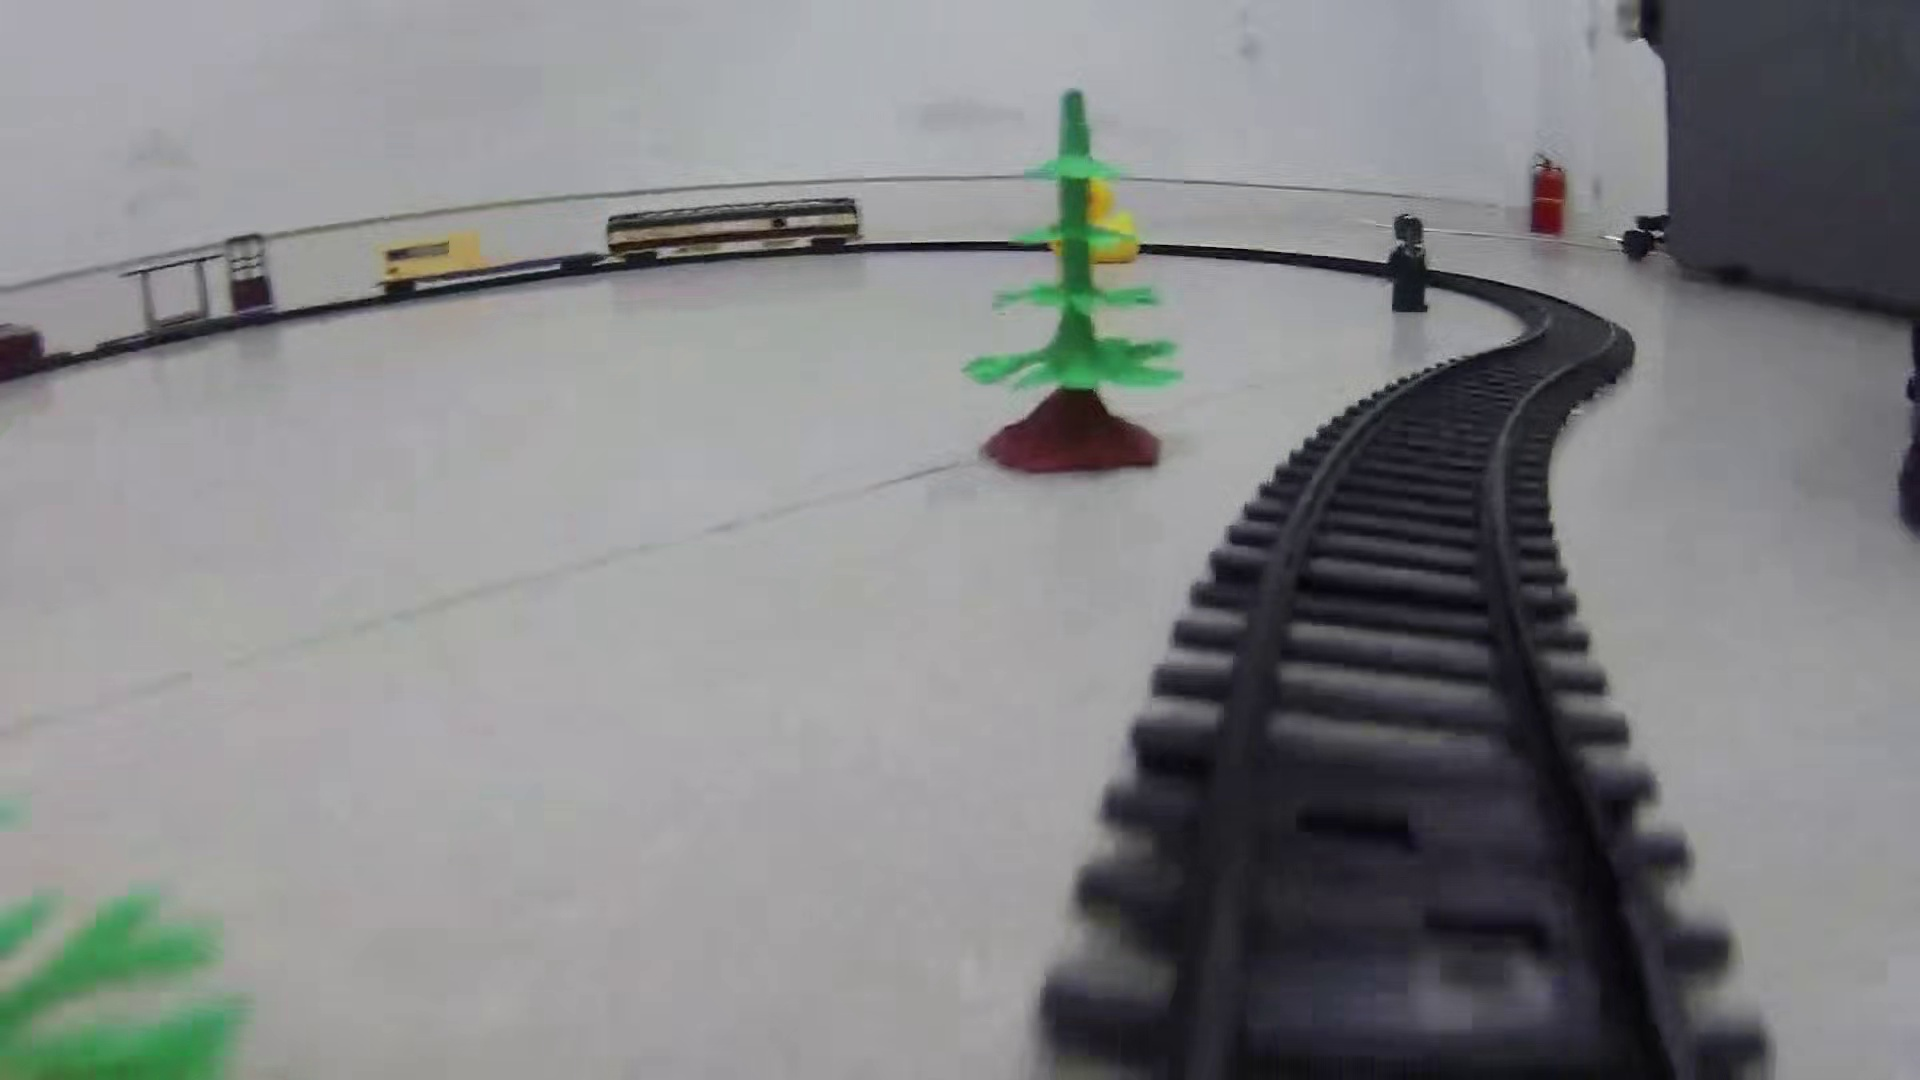people: (1379, 214, 1433, 318)
tree: (961, 85, 1178, 479)
